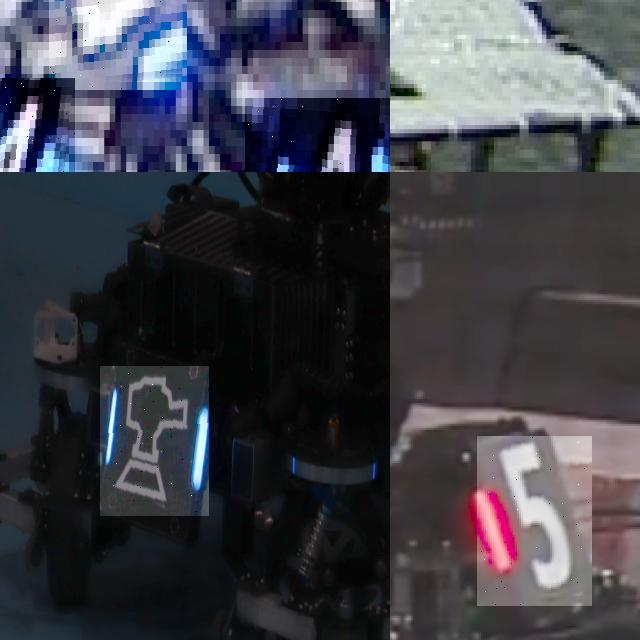B4: (49, 0, 187, 90), (244, 98, 390, 172), (0, 78, 76, 172)
Bs: (100, 366, 209, 516)
R5: (477, 436, 592, 606)
